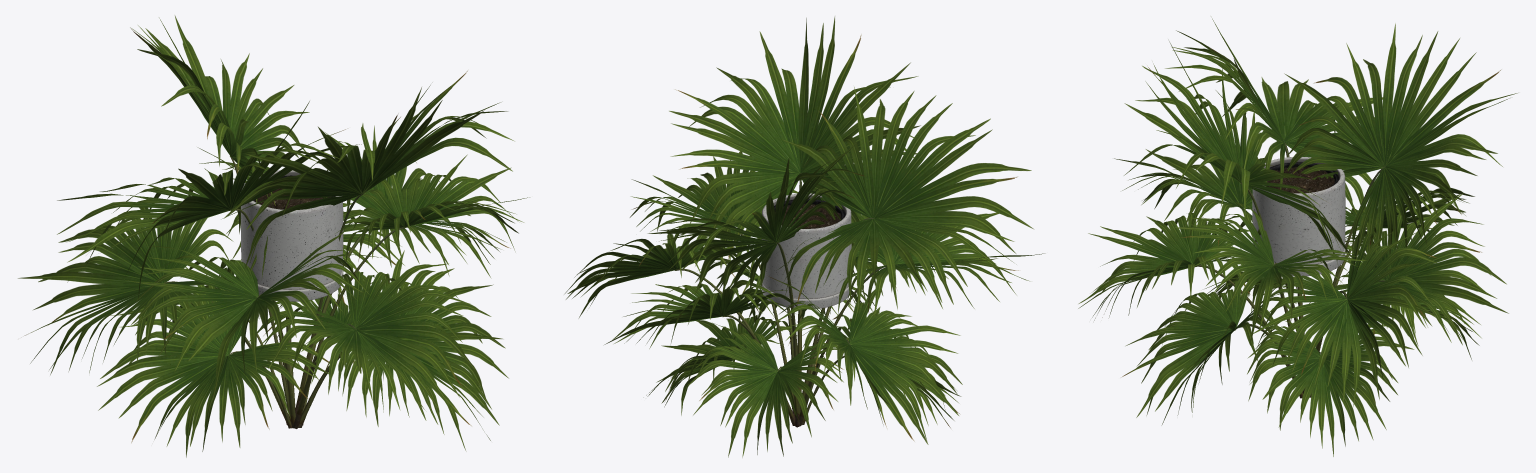
File: floor plant_1_1_processed.glb
The picture shows the model from 3 angles, left to right: view 1: azimuth 30°, elevation 25°; view 2: azimuth 150°, elevation 25°; view 3: azimuth 270°, elevation 25°; orthographic projection. The views are drawn at different scales.
Parts seen in each view (by area): view 1: LIVISTONA_CHINENSIS, PLANTER_TERRA_BASE; view 2: LIVISTONA_CHINENSIS, PLANTER_TERRA_BASE; view 3: LIVISTONA_CHINENSIS, PLANTER_TERRA_BASE.
Boxes of the visible parts, x1,y1,x2,y2 form: LIVISTONA_CHINENSIS: (18,16,529,457); PLANTER_TERRA_BASE: (241,170,343,301); LIVISTONA_CHINENSIS: (565,17,1044,457); PLANTER_TERRA_BASE: (761,193,851,309); LIVISTONA_CHINENSIS: (1078,18,1517,456); PLANTER_TERRA_BASE: (1252,157,1345,276).
Size of the model in its own units: 52462 by 42561 by 47666.
2 materials, 2 textured.
